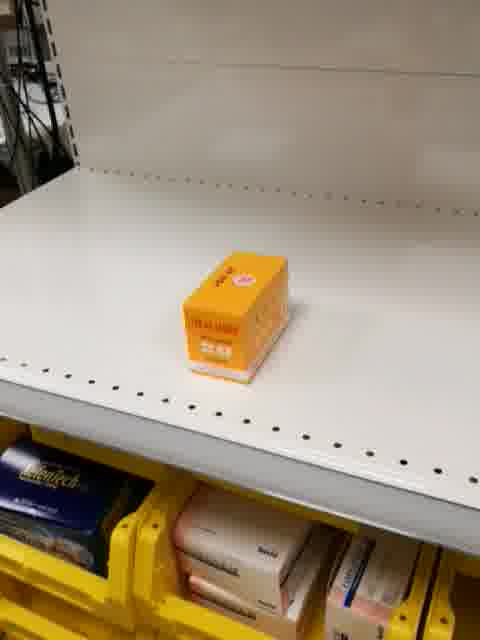jasminetea: (181, 250, 289, 387)
